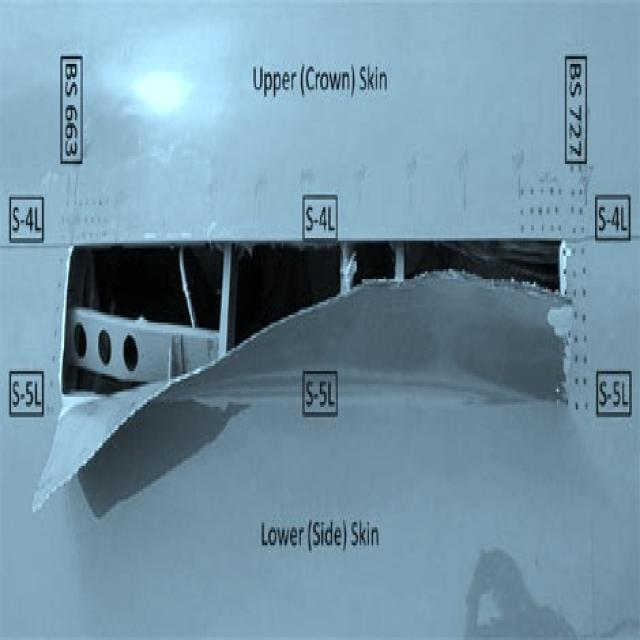crack: (27, 242, 575, 516)
